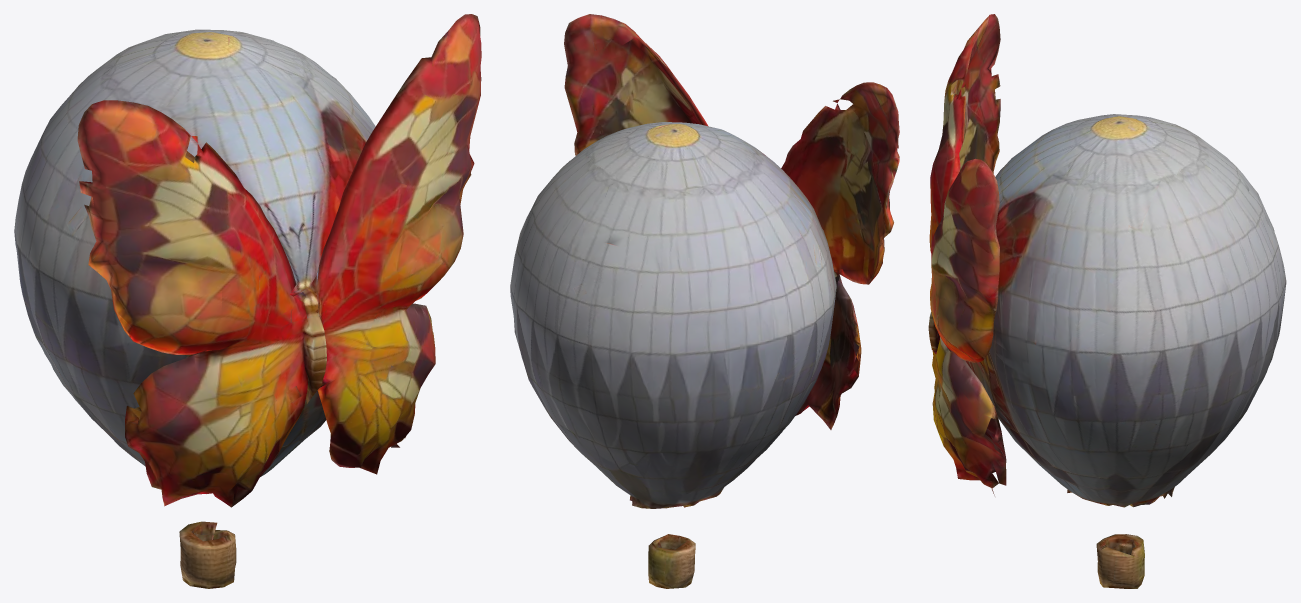
Rendered from compressed_1745524621409_redBtrflyWhiteballoon.glb.
3 renders of one model, left to right at view 1: azimuth 30°, elevation 25°; view 2: azimuth 150°, elevation 25°; view 3: azimuth 270°, elevation 25°, orthographic. The views are drawn at different scales.
Size of the model in its own units: 1.45 by 1.99 by 1.31.
1 material, 1 textured.
